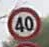limite 40: (6, 6, 42, 40)
